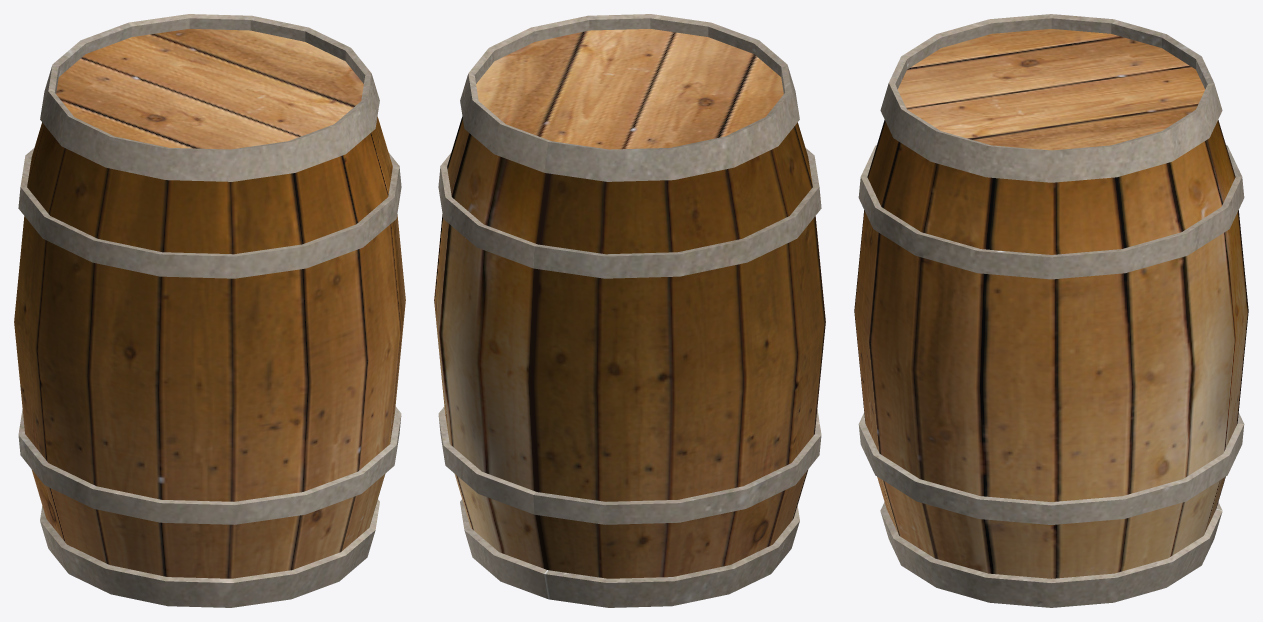
Rendered from barrel.fbx.
The picture shows the model from 3 angles, left to right: view 1: azimuth 30°, elevation 25°; view 2: azimuth 150°, elevation 25°; view 3: azimuth 270°, elevation 25°; orthographic projection.
Visible parts, largest first — view 1: pCylinder1; view 2: pCylinder1; view 3: pCylinder1.
Part boxes in pixels (x1,y1,x2,y2): pCylinder1: (14,14,405,607); pCylinder1: (434,14,825,607); pCylinder1: (854,14,1248,607).
Bounding box in the file's own units: 12.62 × 16.11 × 12.62.
